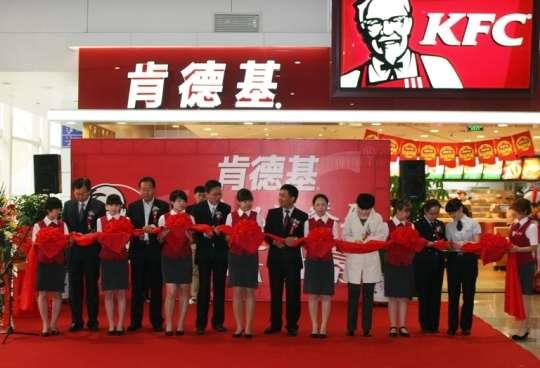KFC: (328, 0, 537, 91)
